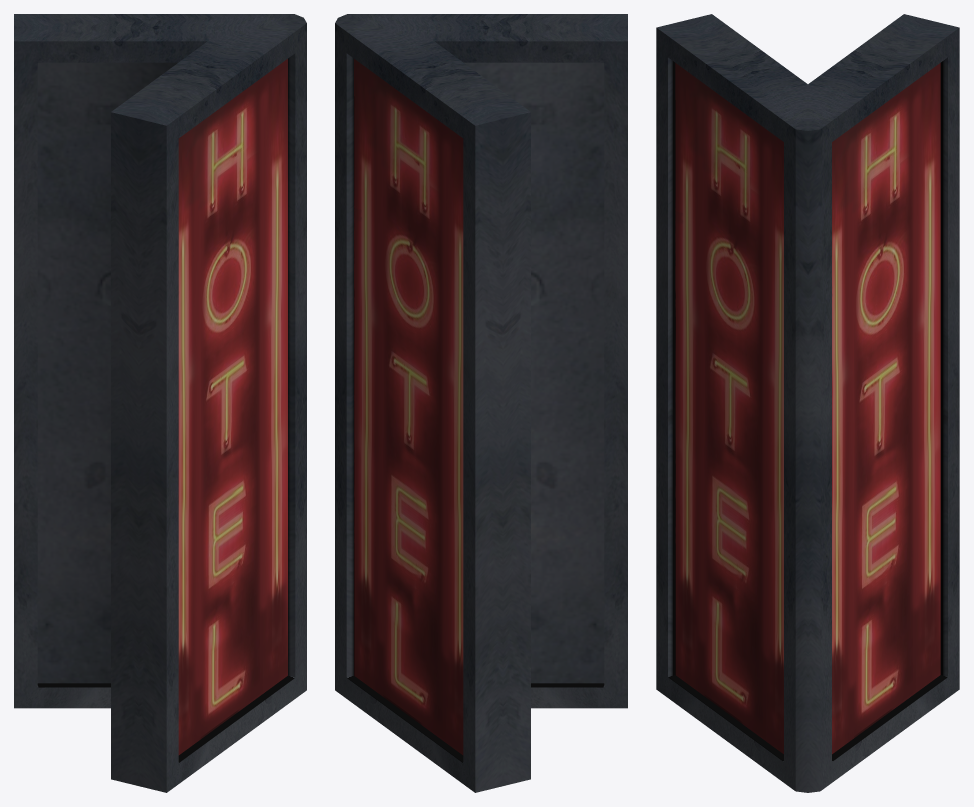
The model's file is Neon_Sign_G.FBX.
The picture shows the model from 3 angles, left to right: view 1: azimuth 30°, elevation 25°; view 2: azimuth 150°, elevation 25°; view 3: azimuth 270°, elevation 25°; orthographic projection.
Parts seen in each view (by area): view 1: Sign_G; view 2: Sign_G; view 3: Sign_G.
Part boxes in pixels (x1,y1,x2,y2): Sign_G: [14, 14, 306, 792]; Sign_G: [335, 14, 627, 792]; Sign_G: [656, 14, 959, 792].
Bounding box in the file's own units: 50.69 × 134 × 55.52.
